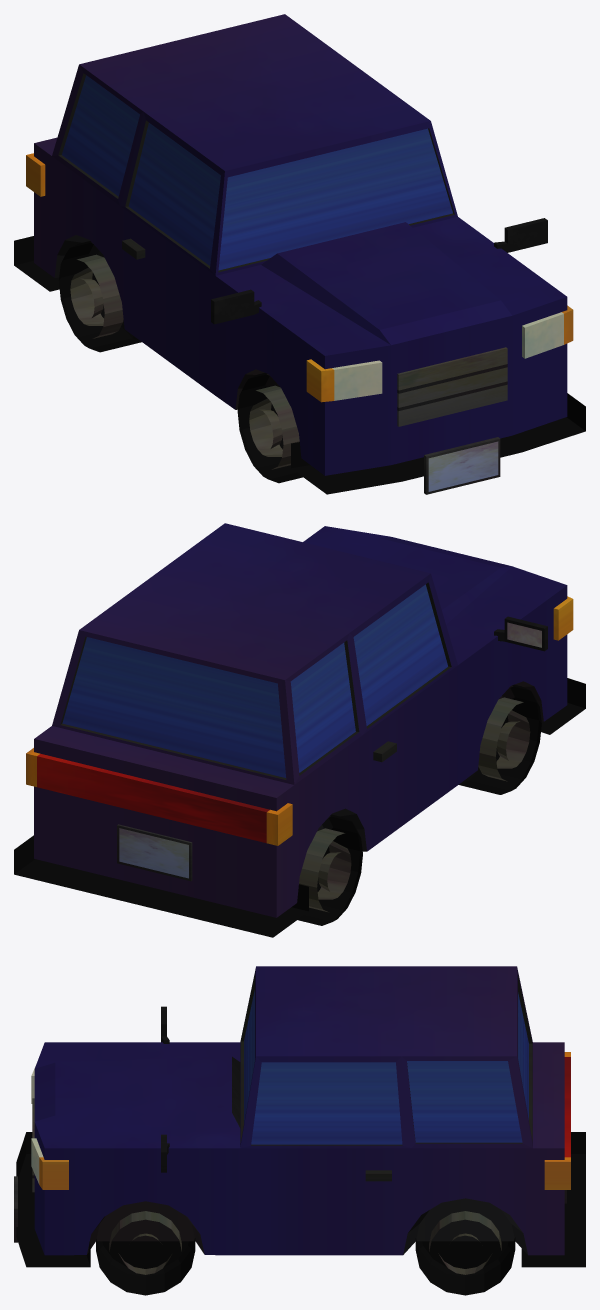
Rendered from vehicle003.glb.
The picture shows the model from 3 angles, top to bottom: view 1: azimuth 30°, elevation 25°; view 2: azimuth 150°, elevation 25°; view 3: azimuth 270°, elevation 25°; orthographic projection. The views are drawn at different scales.
Parts seen in each view (by area): view 1: vehicle014; view 2: vehicle014; view 3: vehicle014.
Boxes of the visible parts, left/top/right/bottom form: vehicle014: left=14, top=14, right=585, bottom=494; vehicle014: left=14, top=523, right=585, bottom=937; vehicle014: left=14, top=966, right=585, bottom=1295.
Size of the model in its own units: 3.24 by 2.4 by 5.38.
Materials: 1 (1 with a texture image).
